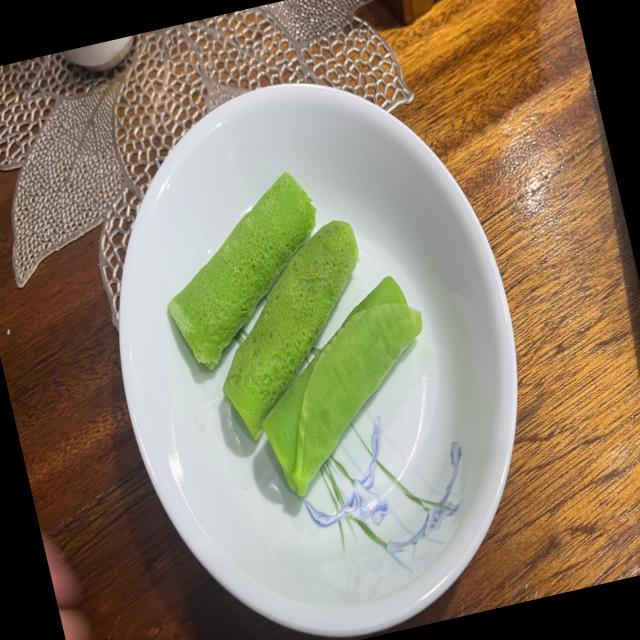Kuih-Ketayap: (262, 276, 422, 495), (223, 220, 358, 438), (168, 171, 315, 368)
